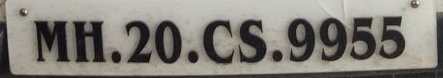character: (33, 18, 70, 64), (202, 18, 236, 67), (72, 18, 108, 64), (152, 19, 184, 65), (236, 18, 268, 64), (285, 16, 317, 62), (318, 14, 348, 62), (124, 18, 154, 65), (349, 14, 378, 62), (378, 14, 407, 59)
